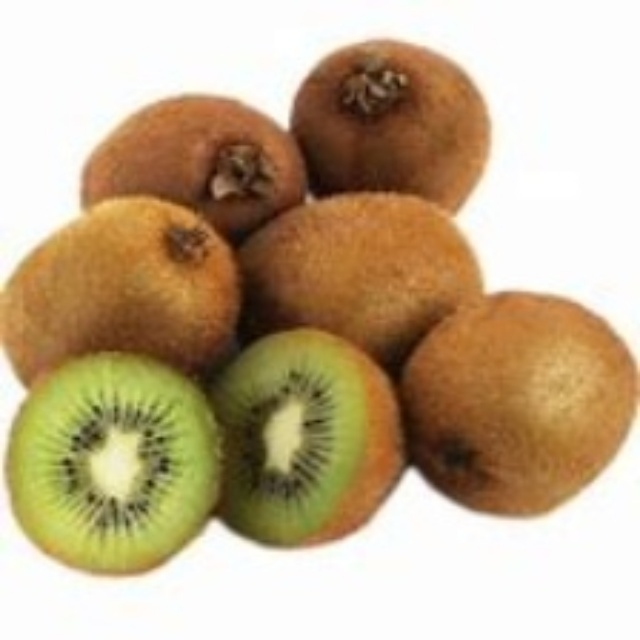kiwi: (400, 297, 638, 521), (12, 355, 225, 583), (198, 336, 412, 556), (2, 208, 229, 384), (74, 86, 309, 254), (292, 40, 502, 222), (257, 194, 482, 357)
